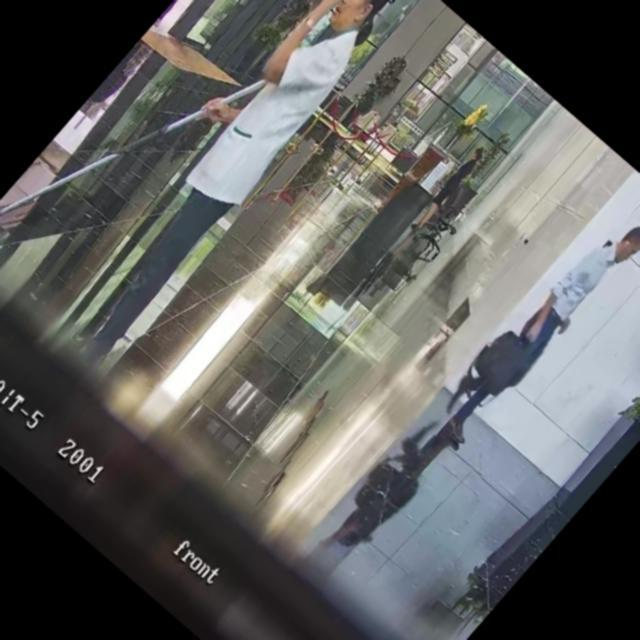person: (28, 0, 422, 369), (425, 199, 640, 453), (407, 144, 491, 236), (153, 0, 224, 28)
